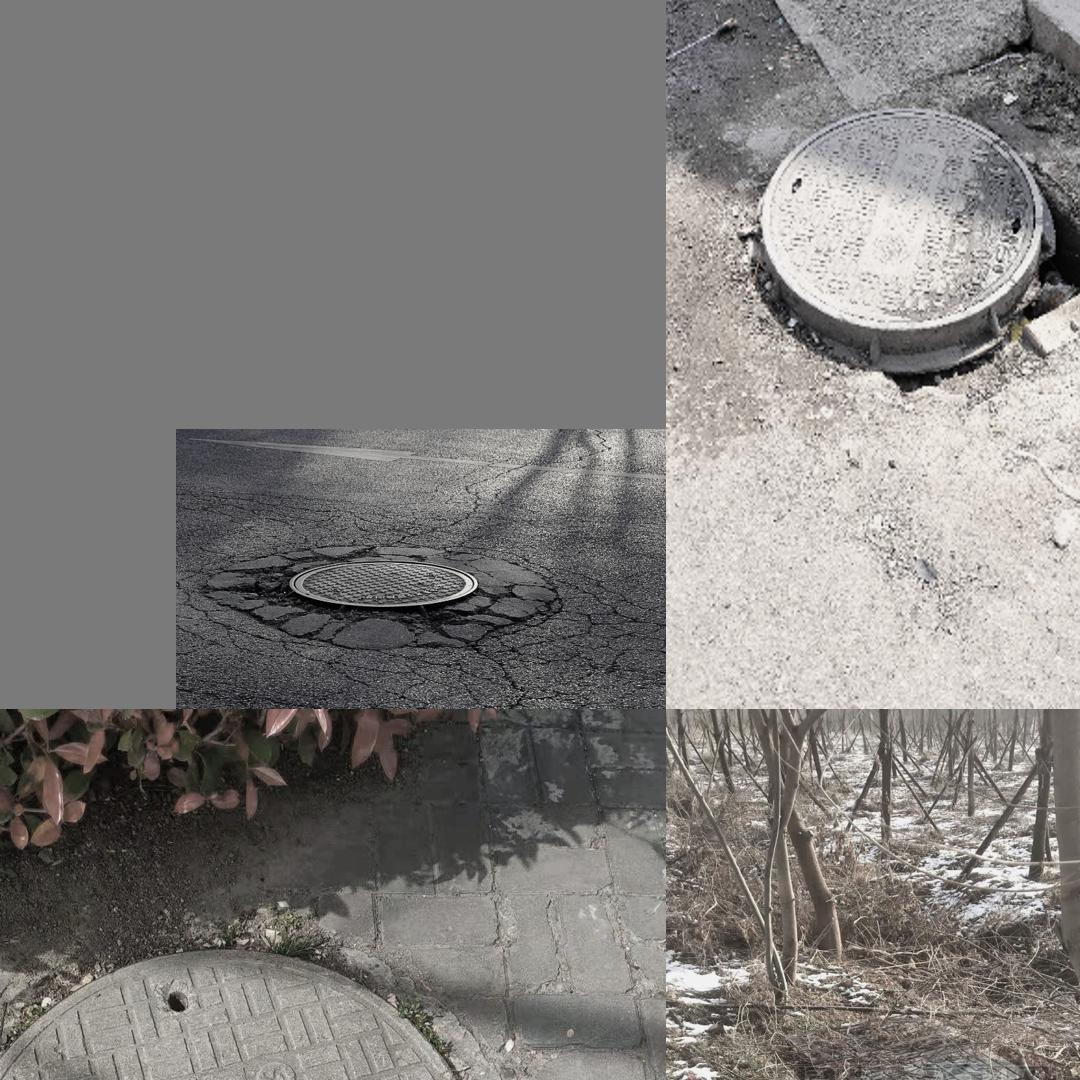circle: (743, 89, 1080, 384), (0, 922, 505, 1080), (237, 541, 572, 663), (787, 1006, 1044, 1080)
